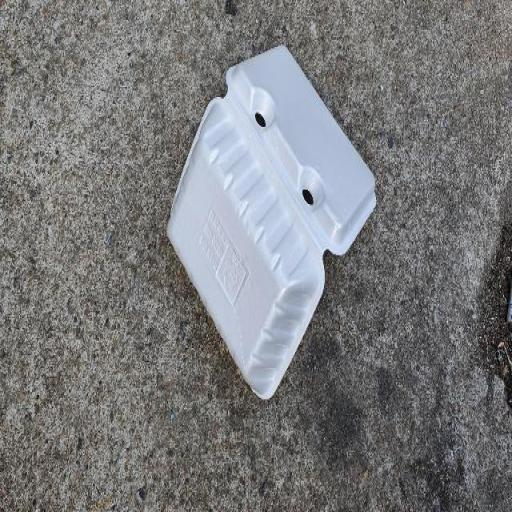styrofoam: (167, 46, 375, 398)
